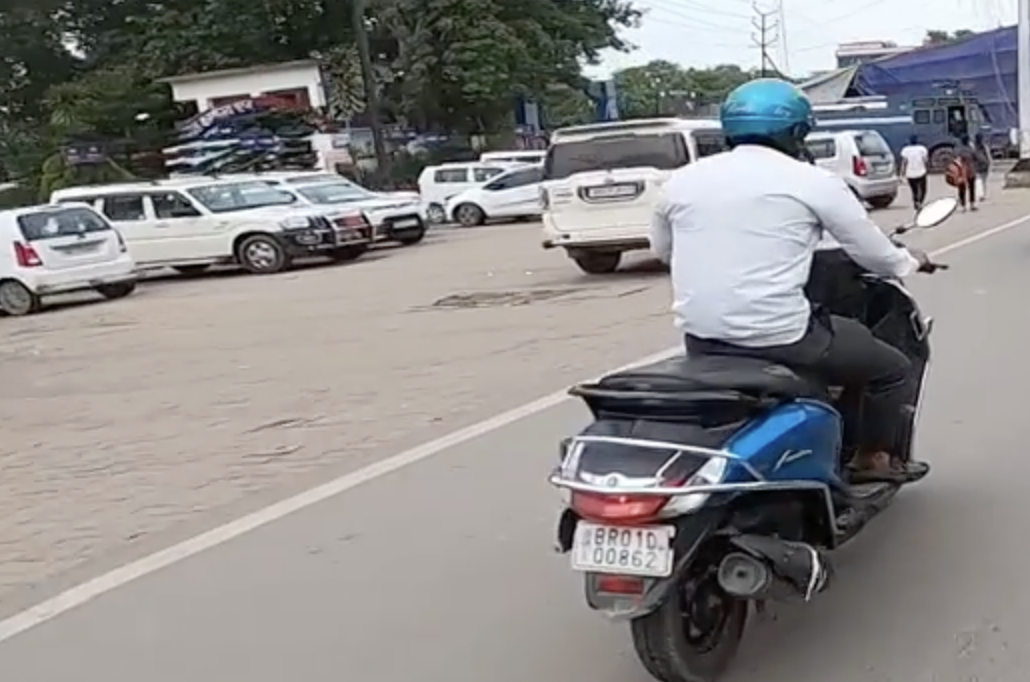motor: (562, 215, 982, 680)
number: (573, 513, 674, 575)
with helmet: (720, 74, 816, 157)
